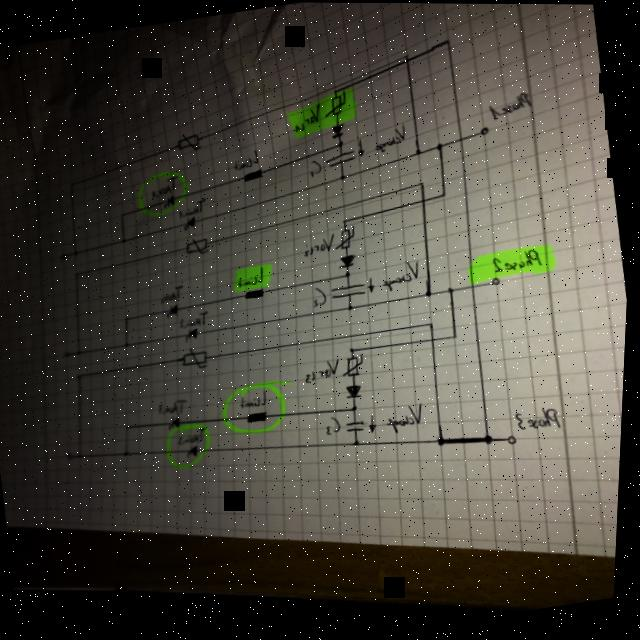capacitor: (325, 146, 359, 168), (331, 280, 370, 299), (347, 418, 370, 433)
crossover: (471, 280, 480, 289), (458, 133, 467, 142), (420, 195, 430, 202), (431, 335, 440, 341), (403, 57, 412, 61)
diode: (346, 381, 367, 398), (338, 252, 360, 268), (330, 121, 348, 137)
inductor: (243, 165, 266, 181), (248, 409, 272, 422), (246, 286, 270, 299)
junction: (485, 430, 499, 443), (439, 434, 450, 445), (435, 140, 445, 149), (415, 145, 425, 154), (356, 437, 365, 446), (337, 137, 346, 146), (448, 284, 458, 292), (345, 269, 355, 277), (78, 371, 87, 379), (126, 448, 135, 456), (354, 402, 363, 410), (348, 302, 357, 310), (441, 190, 450, 198), (350, 345, 360, 352), (426, 288, 436, 295), (125, 340, 133, 348), (127, 422, 136, 429), (453, 331, 462, 338), (429, 319, 438, 326), (121, 235, 130, 242), (73, 248, 82, 255), (124, 314, 134, 320), (419, 178, 427, 185), (340, 172, 348, 179), (120, 210, 128, 217), (75, 269, 83, 276), (69, 179, 77, 186), (78, 348, 86, 355), (443, 36, 451, 43), (81, 451, 88, 458), (342, 217, 350, 223), (403, 50, 410, 56), (333, 87, 340, 92)
terminal: (478, 123, 491, 134), (510, 432, 522, 443), (68, 449, 79, 460), (492, 274, 504, 283), (65, 348, 73, 357), (61, 251, 70, 259)
text: (380, 256, 426, 292), (486, 88, 536, 120), (386, 399, 431, 434), (517, 402, 566, 433), (492, 245, 547, 272), (372, 120, 410, 152), (304, 355, 346, 383), (291, 101, 325, 131), (303, 230, 341, 256), (236, 263, 270, 288), (150, 174, 183, 198), (231, 147, 263, 170), (159, 396, 193, 417), (178, 196, 210, 218), (180, 309, 213, 329), (179, 425, 212, 445), (241, 387, 272, 408), (160, 283, 189, 303), (312, 284, 332, 306), (326, 413, 346, 434), (308, 157, 325, 175)
thyristor: (167, 302, 184, 316), (183, 214, 199, 228), (186, 326, 203, 338), (171, 413, 185, 427), (189, 442, 203, 456), (163, 193, 178, 206)
